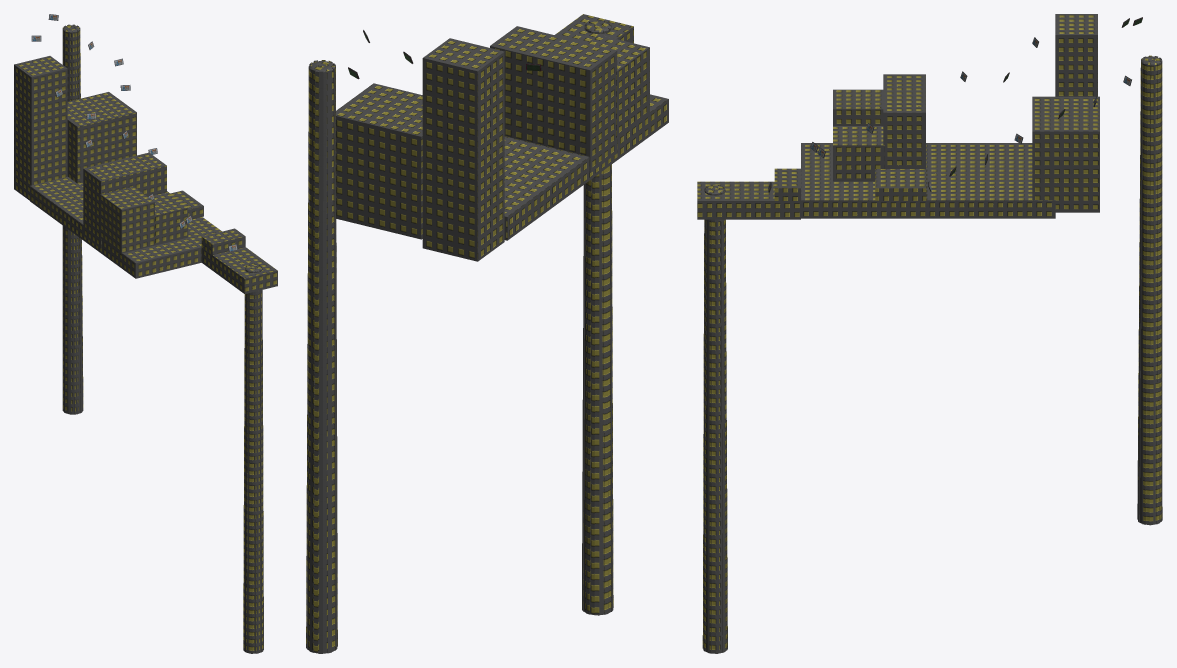
The model's file is stage2.fbx.
The picture shows the model from 3 angles, left to right: view 1: azimuth 30°, elevation 25°; view 2: azimuth 150°, elevation 25°; view 3: azimuth 270°, elevation 25°; orthographic projection. The views are drawn at different scales.
Parts seen in each view (by area): view 1: stage1_4:stage2; view 2: stage1_4:stage2; view 3: stage1_4:stage2.
Boxes of the visible parts, x1,y1,x2,y2 form: stage1_4:stage2: [14, 14, 277, 653]; stage1_4:stage2: [306, 14, 668, 653]; stage1_4:stage2: [697, 14, 1162, 653].
Bounding box in the file's own units: 7064 × 31310 × 21420.
